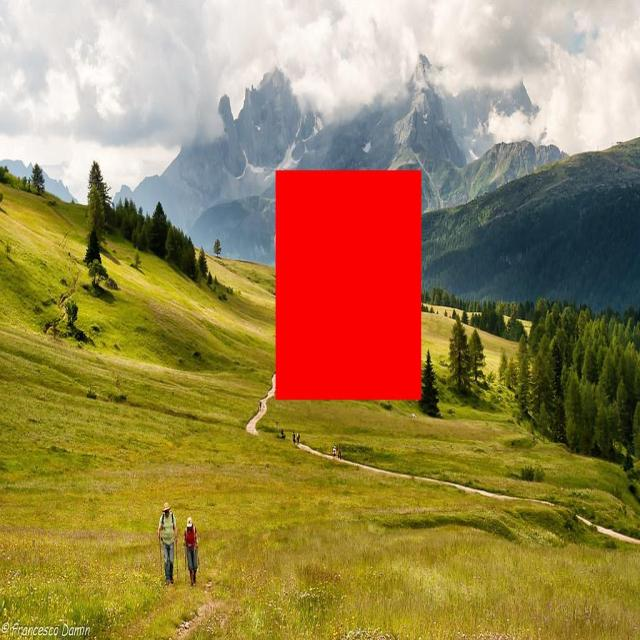RedSquare: (271, 161, 425, 407)
